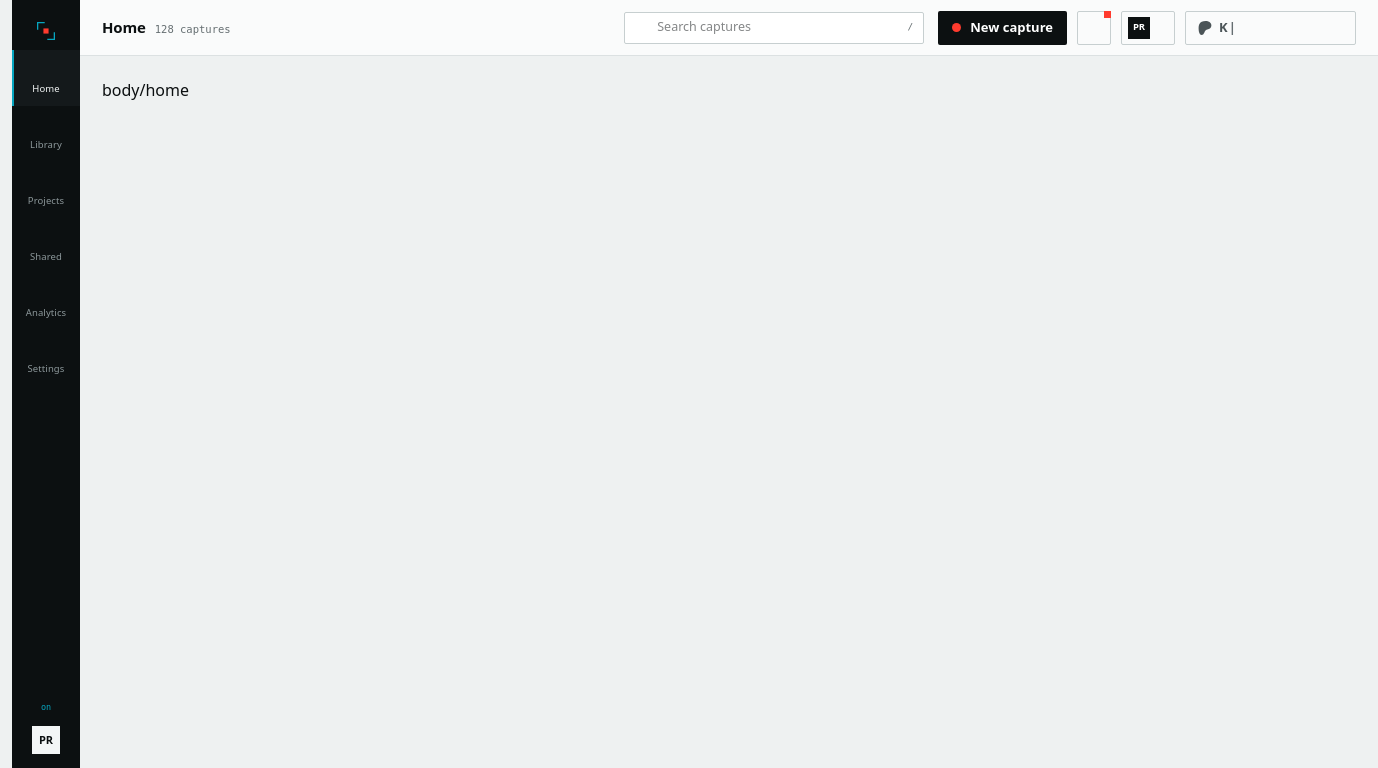
AppShell › does not steal / while the user is typing in a field
The width and height of the screenshot is (1378, 768).
Click the search field with placeholder "Search captures" at (778, 28), box top-left (657, 18), bottom-right (900, 37)
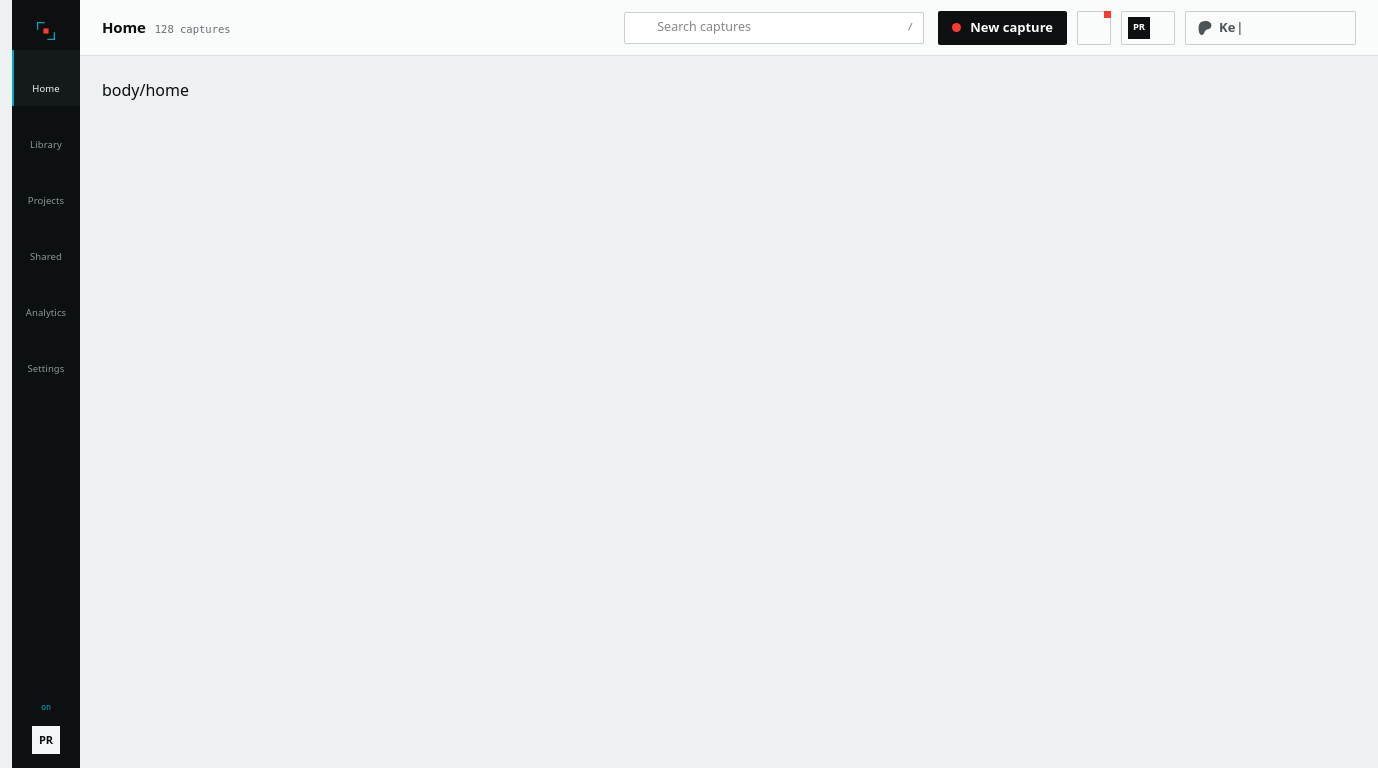
Type keys "a/b"
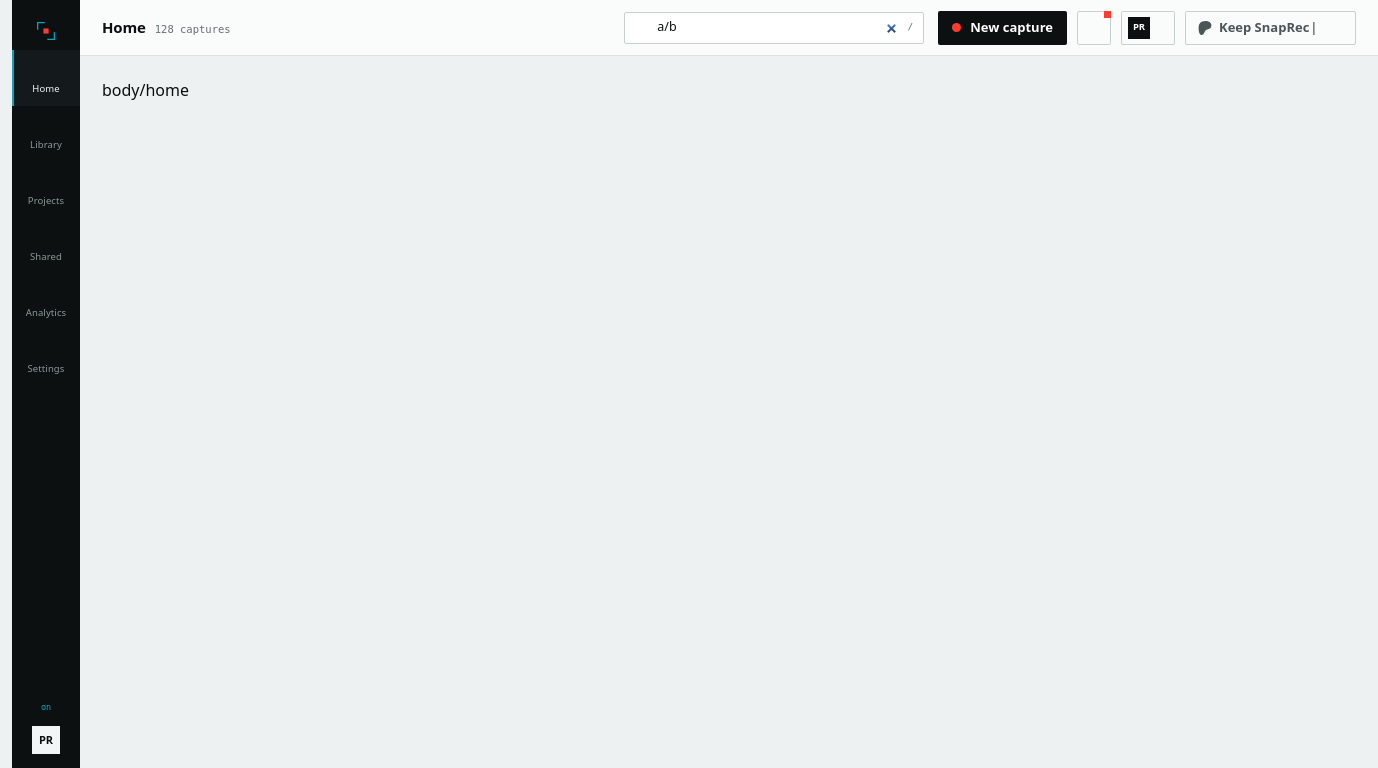
Check: the search field with placeholder "Search captures" holds "a/b", box top-left (657, 18), bottom-right (900, 37)
